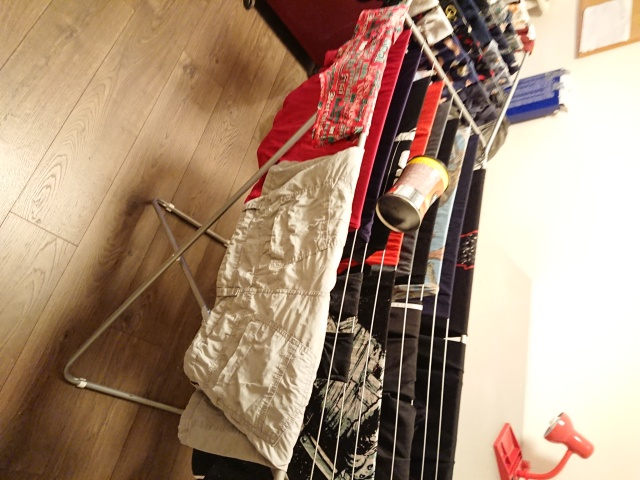Nescafe Classic 225g: (373, 153, 452, 236)
